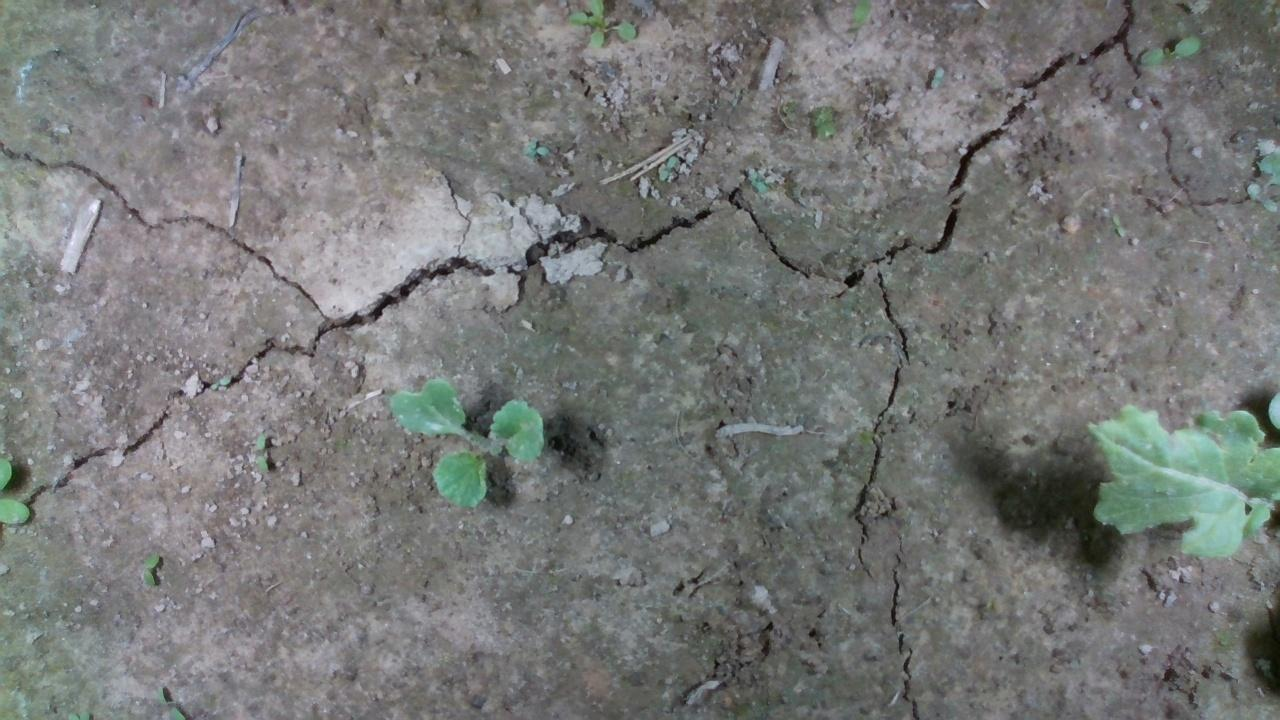weed: (243, 427, 276, 475), (125, 551, 165, 588), (742, 162, 778, 202), (514, 133, 553, 161), (929, 60, 947, 88)
